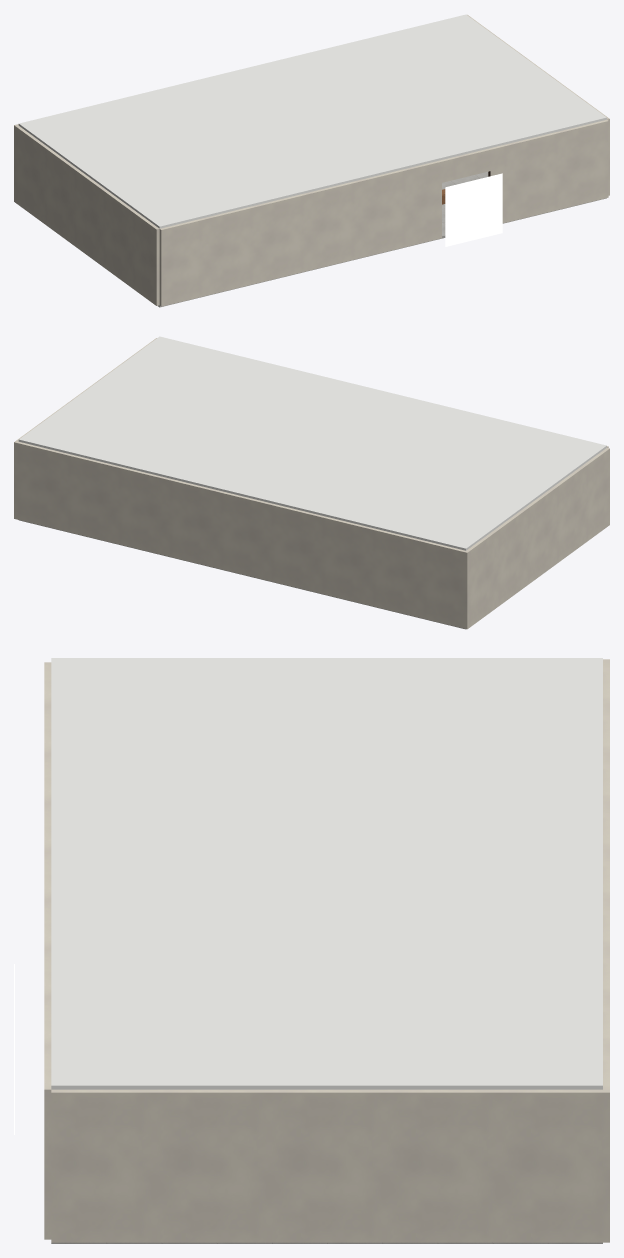
The model's file is room_college.glb.
3 renders of one model, top to bottom at view 1: azimuth 30°, elevation 25°; view 2: azimuth 150°, elevation 25°; view 3: azimuth 270°, elevation 25°, orthographic. The views are drawn at different scales.
Parts seen in each view (by area): view 1: Room; view 2: Room; view 3: Room.
Boxes of the visible parts, box(x1,y1,x2,y2) form: Room: box(14, 14, 609, 307); Room: box(14, 336, 609, 629); Room: box(14, 658, 609, 1243).
Size of the model in its own units: 22.3 by 3.8 by 12.96.
Materials: 29 (7 with a texture image).
